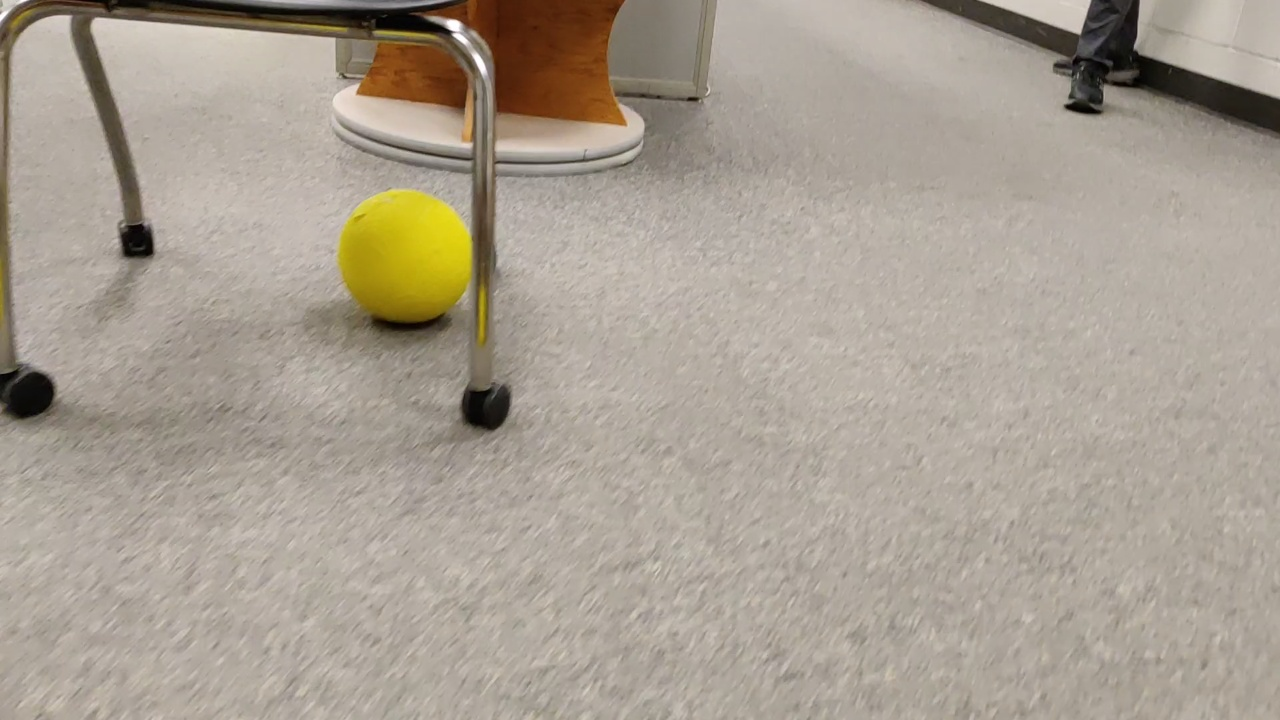Ball: (332, 188, 473, 334)
